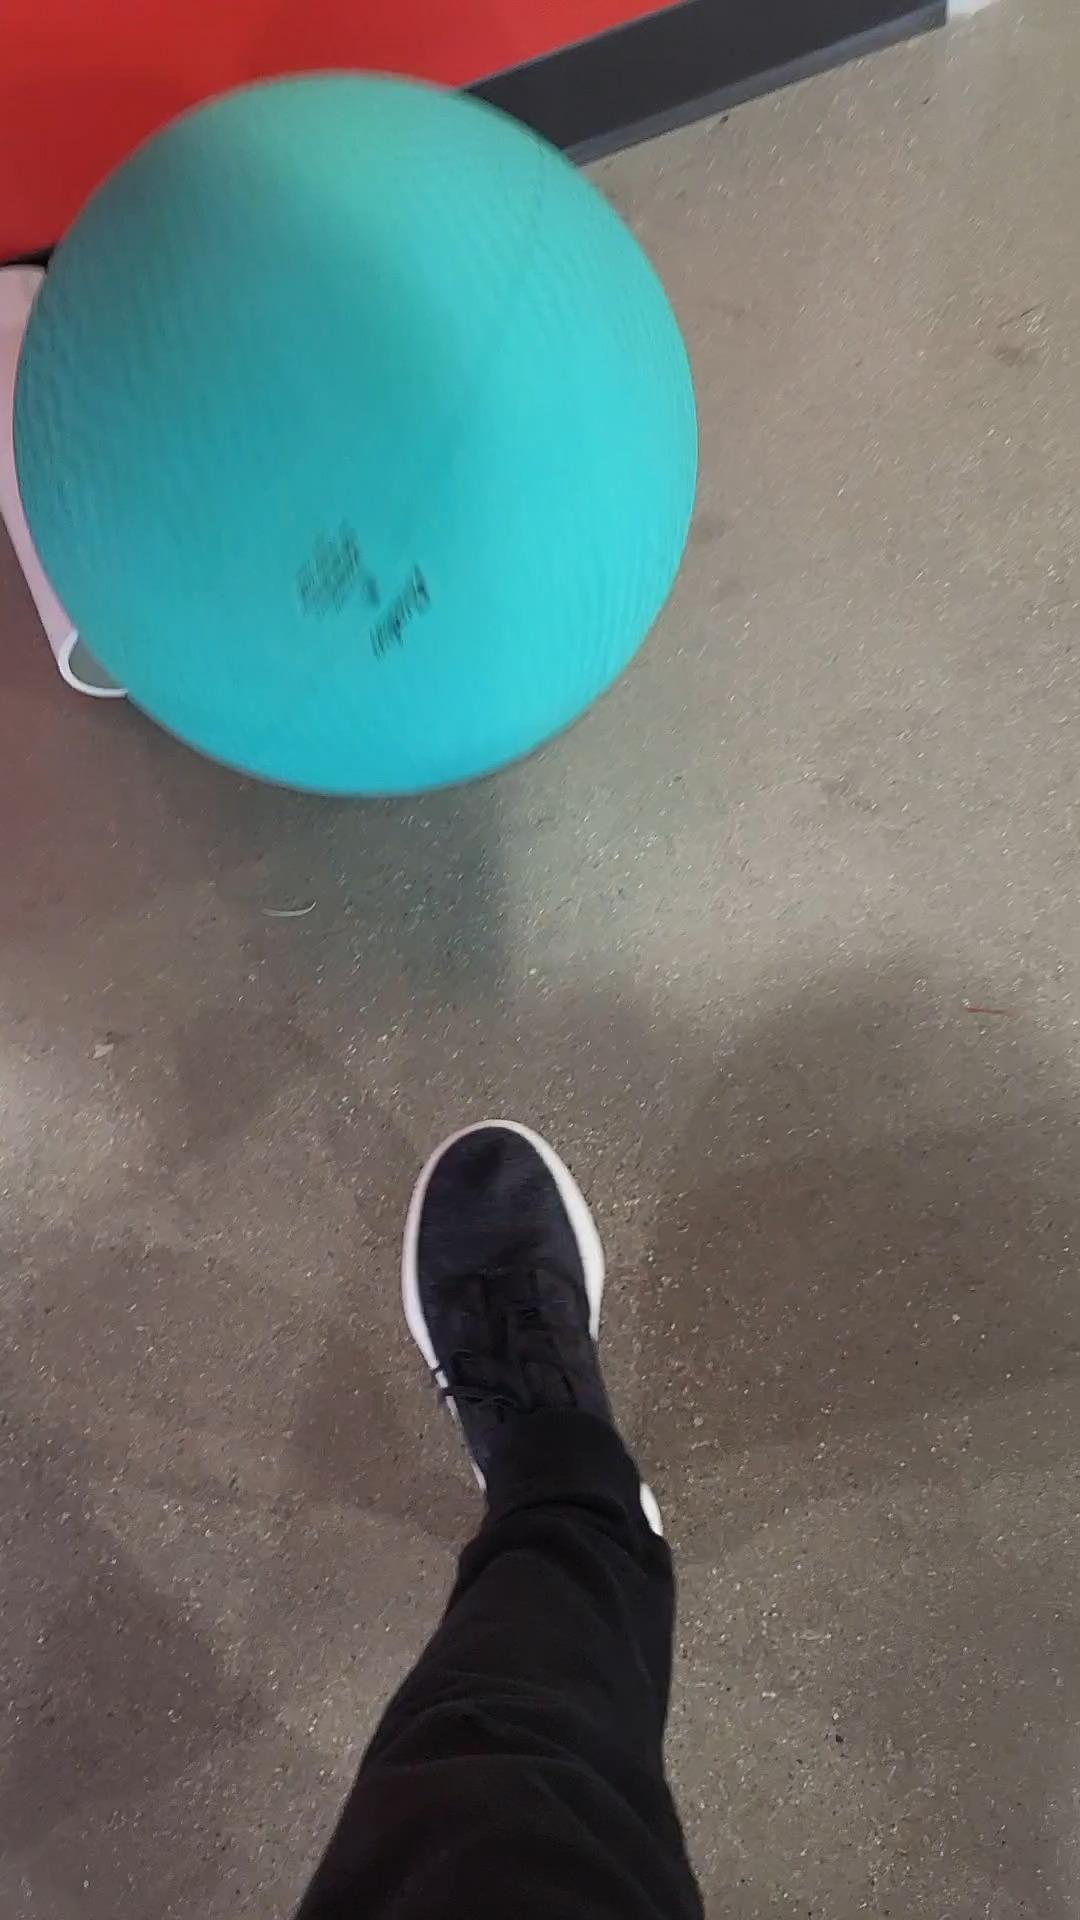algae: (16, 66, 723, 808)
